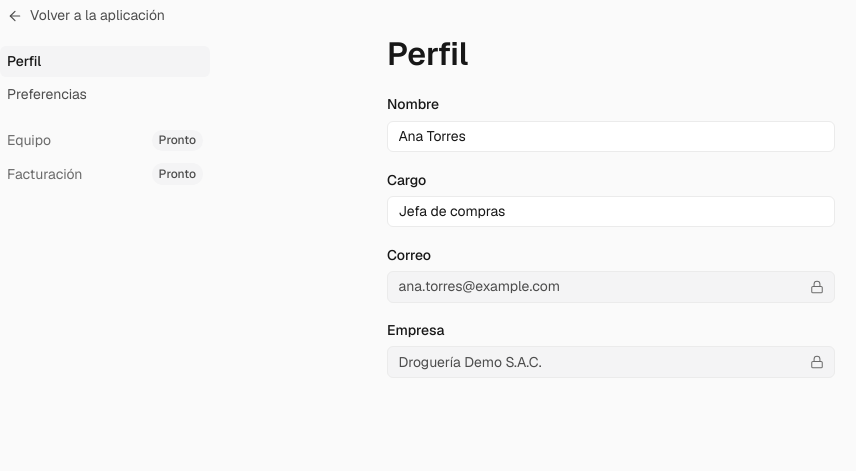
Test: profile (settings) › shows the server field error next to the field
Replace the text in the field labelled "Nombre" with "A" at (611, 136), box [398,126,824,147]
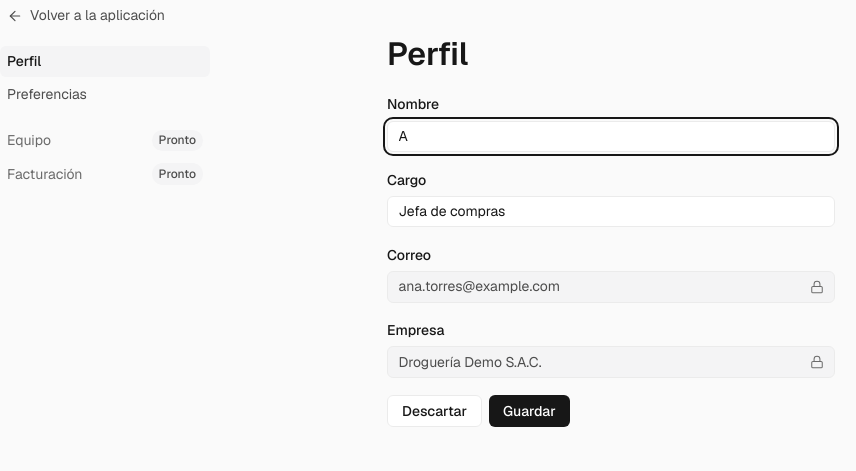
Click the button "Guardar" at (529, 411), box [489,395,570,427]
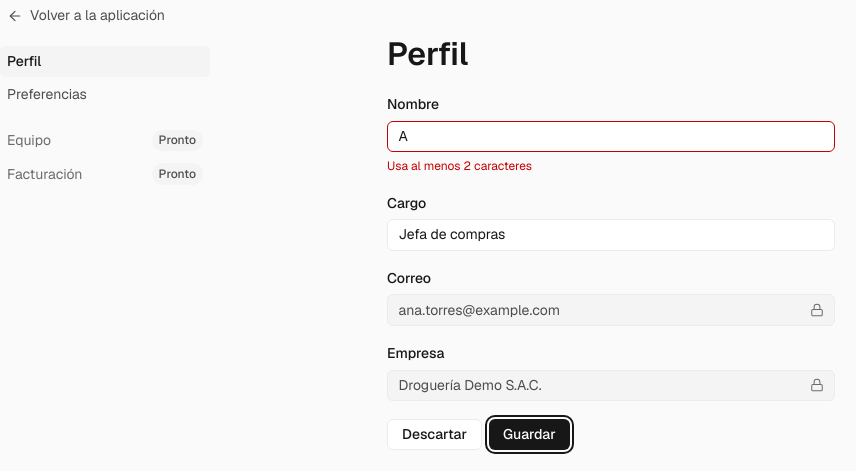
Now the button "Guardar" is shown, box [489,419,570,450]
Now the text "Usa al menos 2 caracteres" is shown, box [387,158,532,174]
